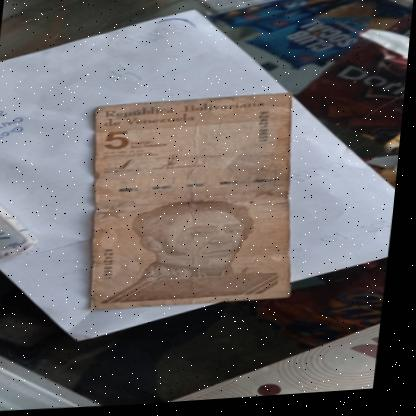vef_front: (78, 91, 315, 316)
